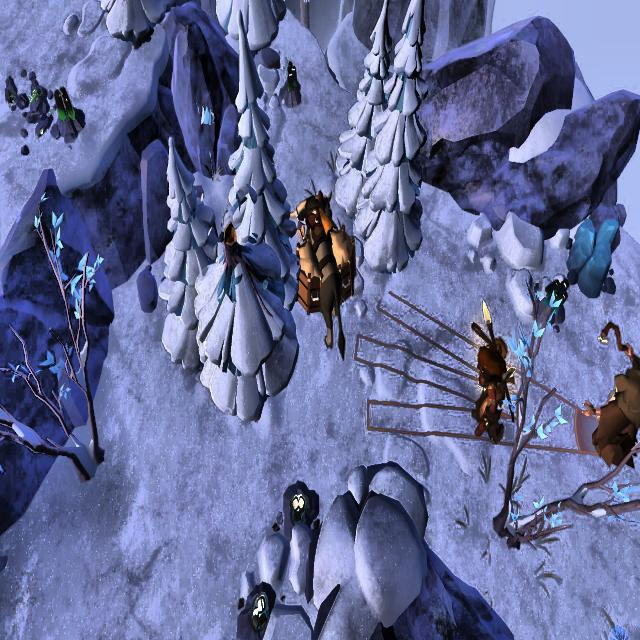enemy_factionKeeper: (585, 327, 640, 468), (472, 313, 514, 446)
ore_t3: (51, 84, 74, 124), (285, 56, 299, 93)
ore_t4: (541, 278, 569, 317)
rock_t4: (566, 214, 620, 301)
